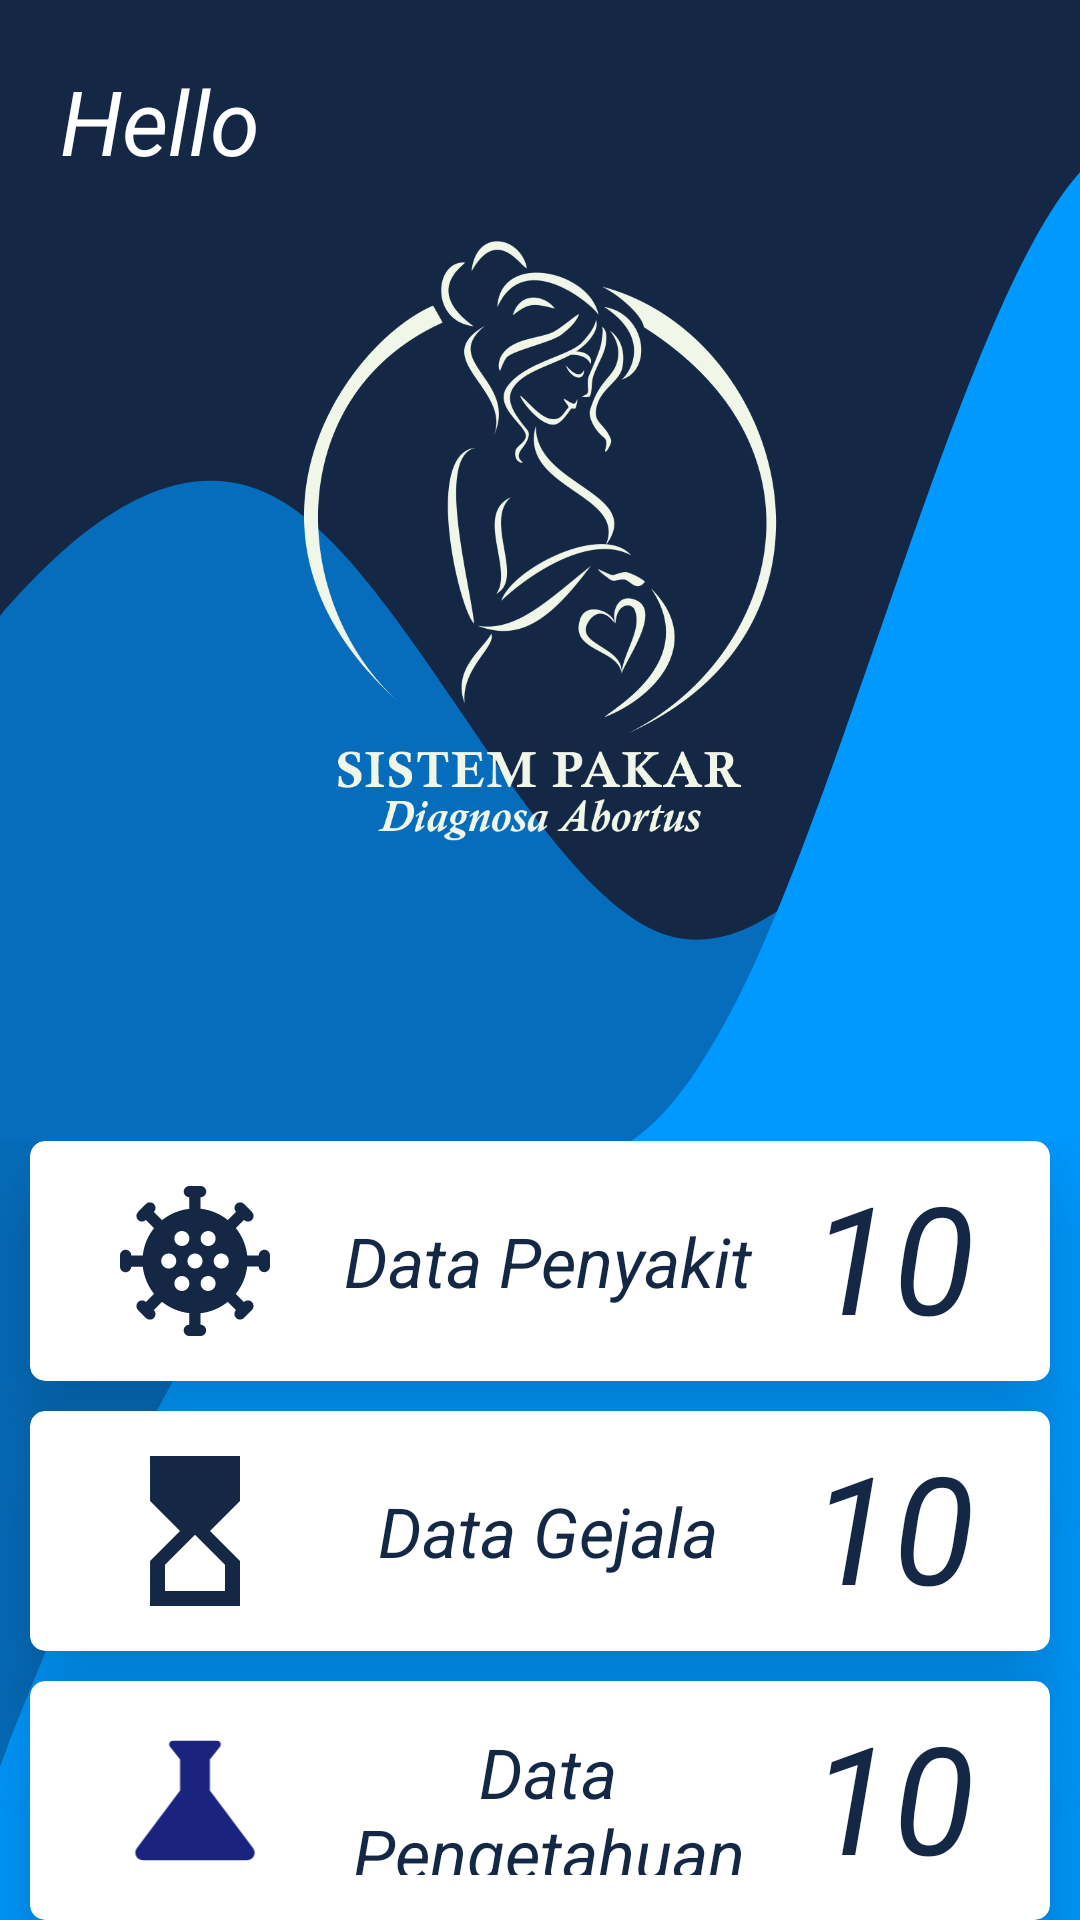

Where icons sit on this 1080px×1920px app screen, as {"x1": x1, "y1": y1, "x2": x2, "y2": y2}:
hourglass: {"x1": 150, "y1": 1456, "x2": 240, "y2": 1606}
science: {"x1": 135, "y1": 1740, "x2": 255, "y2": 1861}
virus: {"x1": 120, "y1": 1186, "x2": 270, "y2": 1336}
